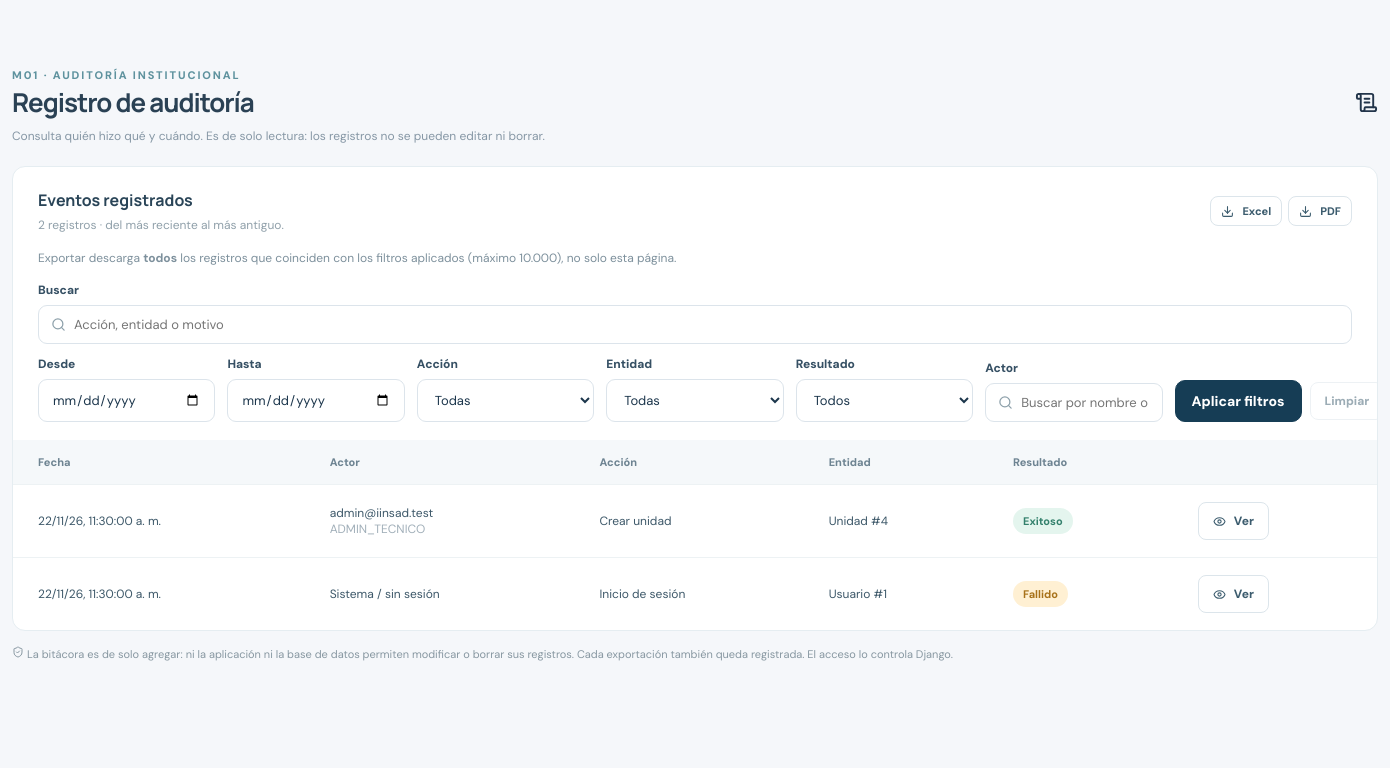
Test: AuditPage › el selector de actor busca en el servidor mientras se escribe y filtra por el ID elegido
Later steps or results of the test are not shown.
Expected: the table is shown, left=13, top=440, right=1377, bottom=630
In the dropdown named "Actor": x=1085, y=403 left=1021, top=384, right=1150, bottom=421, type "ctc"
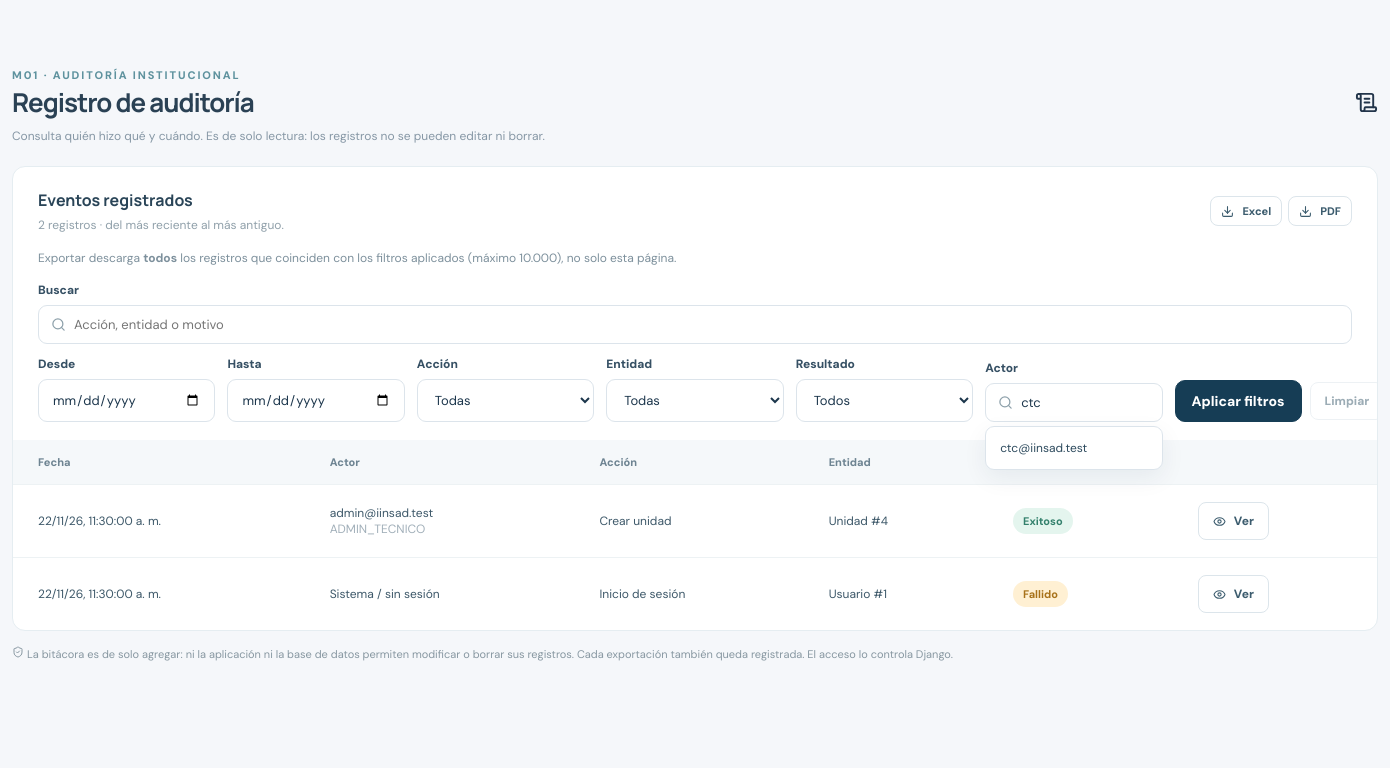
Result: the option "ctc@iinsad.test" is shown
Click the option "ctc@iinsad.test": x=1044, y=448 left=1000, top=440, right=1087, bottom=456
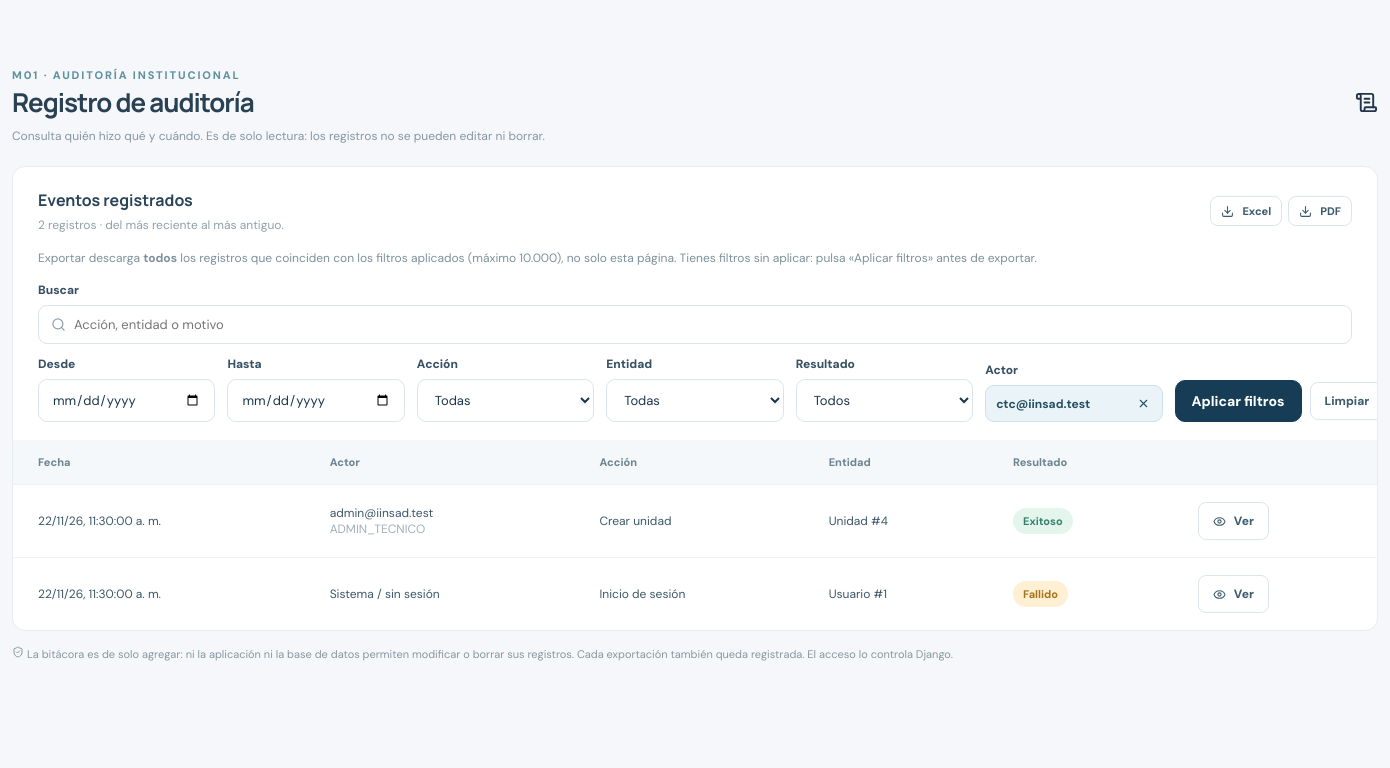
Result: the text "ctc@iinsad.test" is shown at left=996, top=396, right=1090, bottom=412
